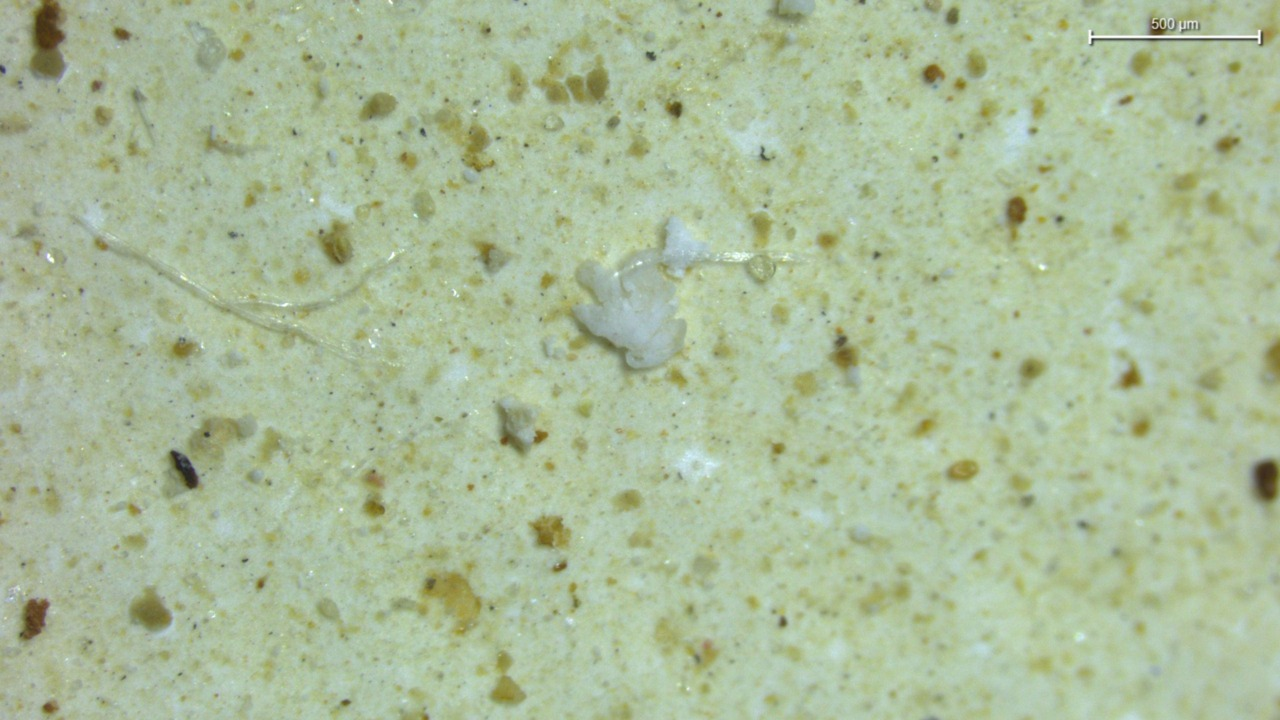microplastic_fragment: (573, 252, 686, 369), (662, 216, 711, 277), (496, 398, 544, 452)
